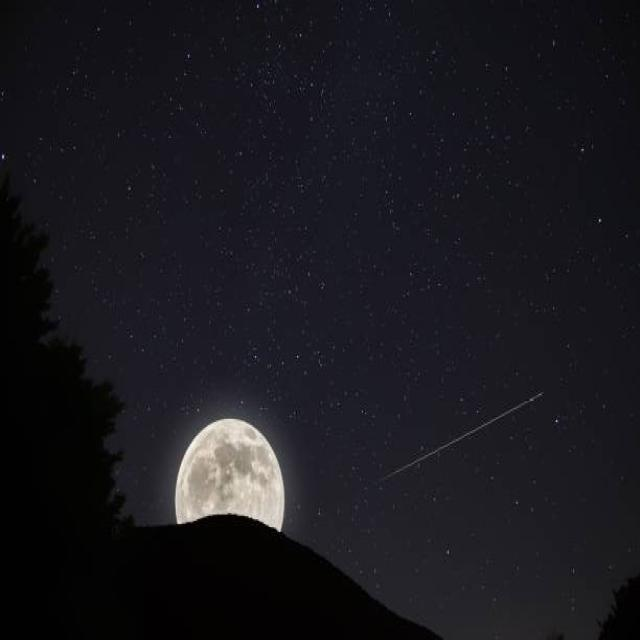moon: (177, 418, 284, 558)
